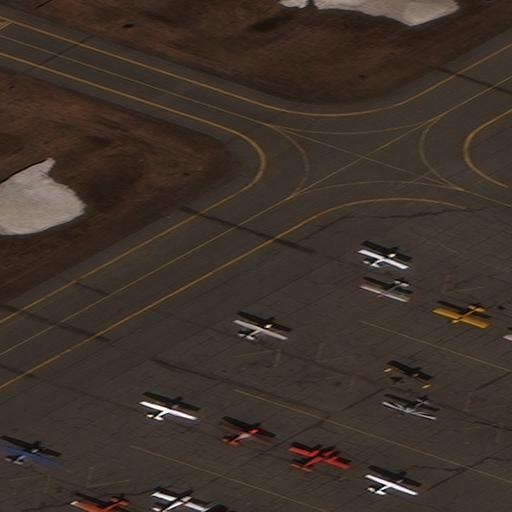Small Civil Transport: (292, 445, 350, 469), (380, 397, 434, 420), (0, 443, 59, 463), (156, 490, 208, 512), (432, 306, 484, 328), (220, 423, 271, 444), (367, 473, 418, 494), (357, 281, 405, 303), (142, 400, 197, 419), (235, 319, 287, 339), (388, 363, 433, 385), (69, 498, 125, 512), (362, 249, 408, 266)
